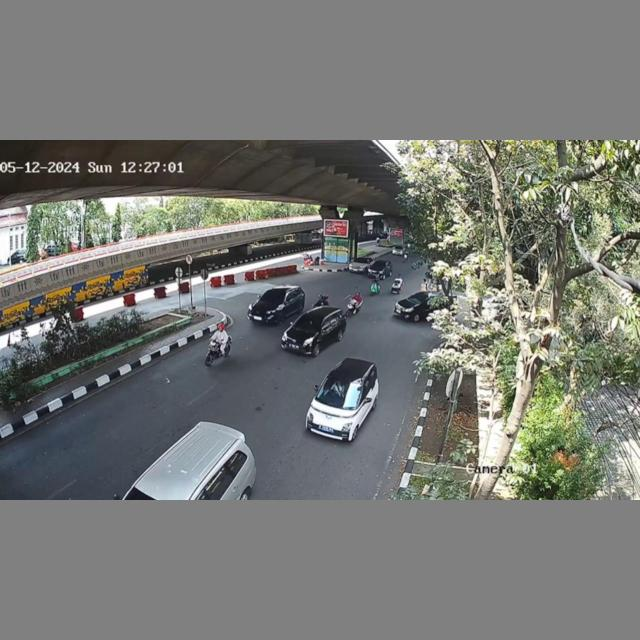windshield: (319, 375, 360, 409), (294, 312, 326, 333), (261, 289, 287, 305)
